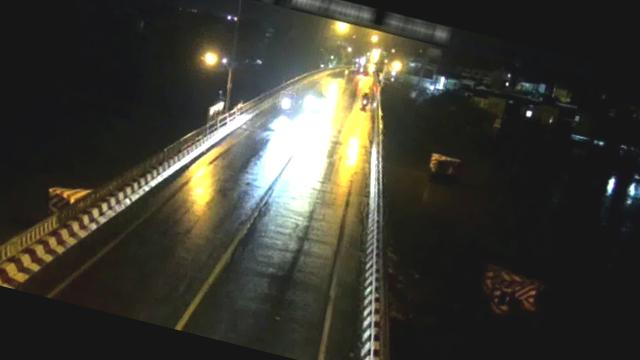Bike: (278, 90, 296, 112), (356, 89, 373, 112)
